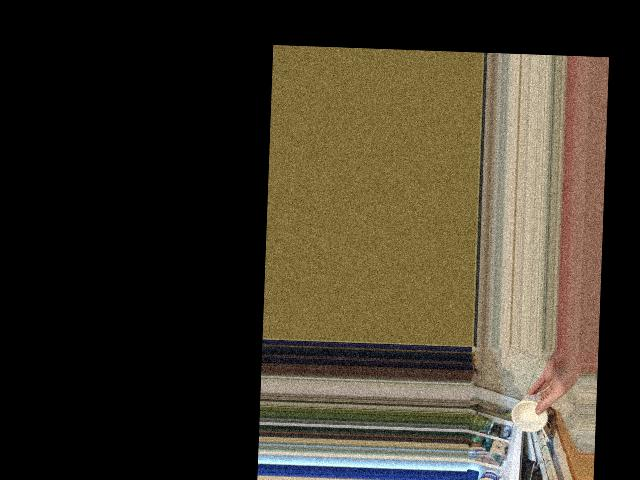cotage: (517, 393, 550, 434)
